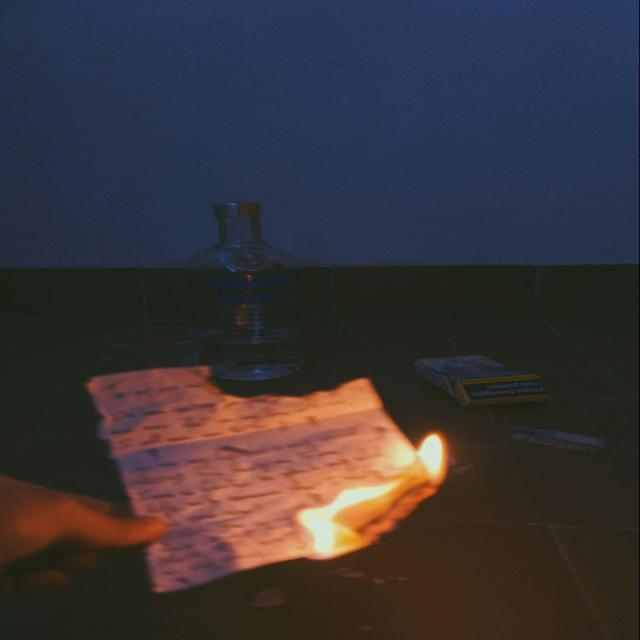fire: (295, 481, 401, 559), (415, 432, 448, 481)
